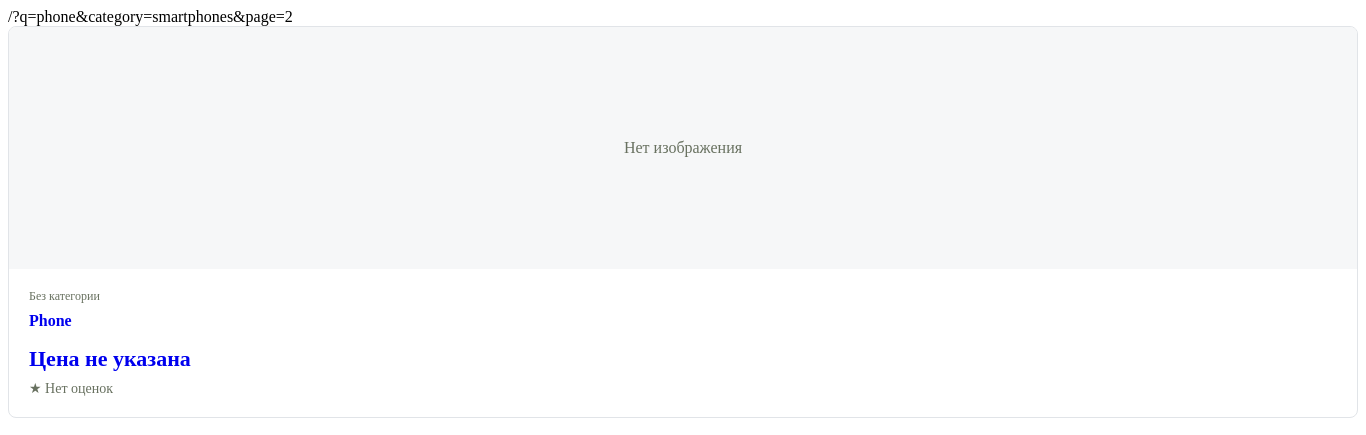
Test: product returns to /?q=phone&category=smartphones&page=2 supplied by its parent
Click the link: (683, 222) left=9, top=27, right=1357, bottom=417
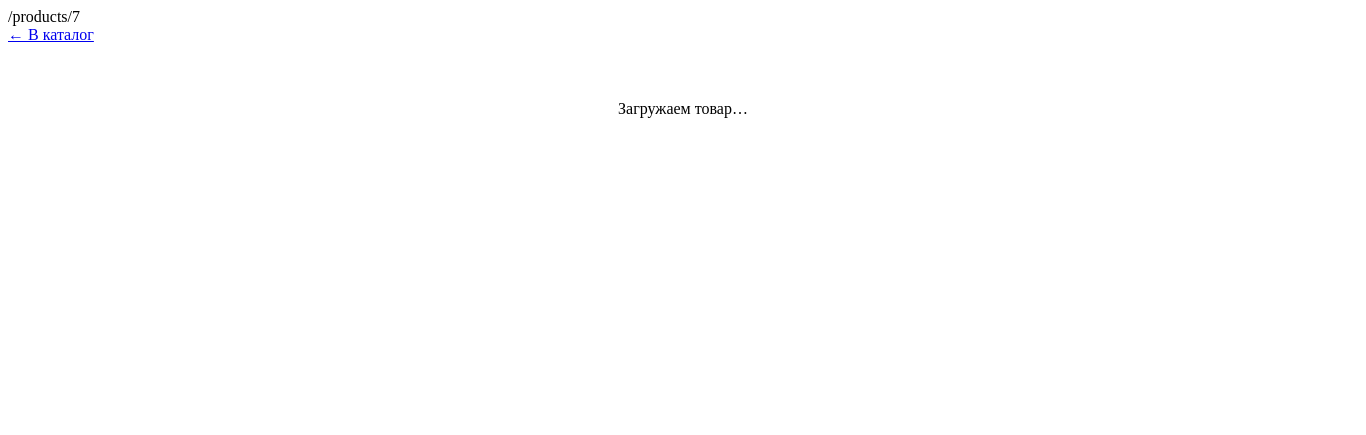
Now the text named "Адрес" reads "/products/7", box left=8, top=8, right=80, bottom=25
Click the link "← В каталог": (51, 34) left=8, top=26, right=94, bottom=43
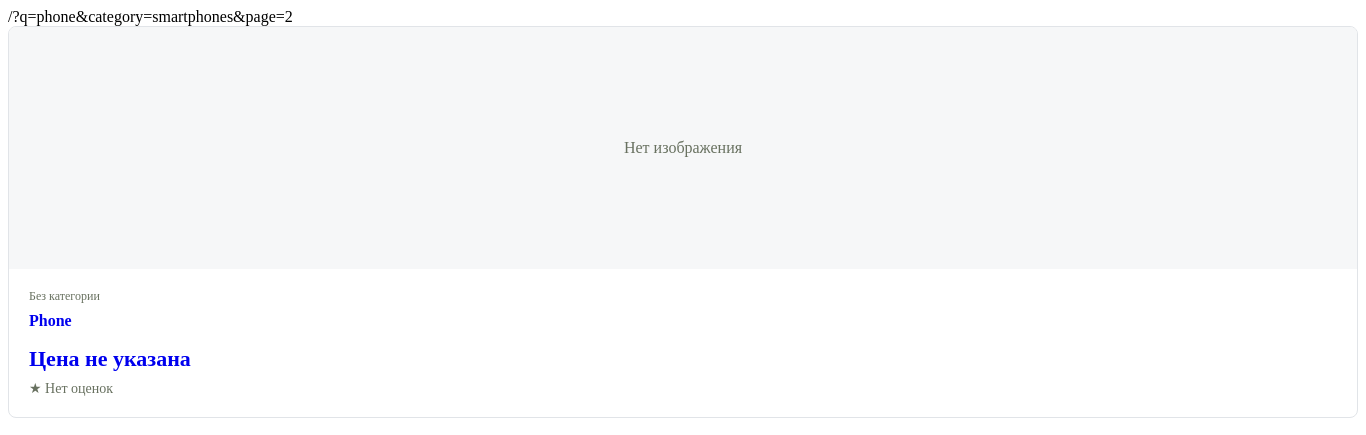
Now the text named "Адрес" reads "/?q=phone&category=smartphones&page=2", box left=12, top=8, right=293, bottom=25
